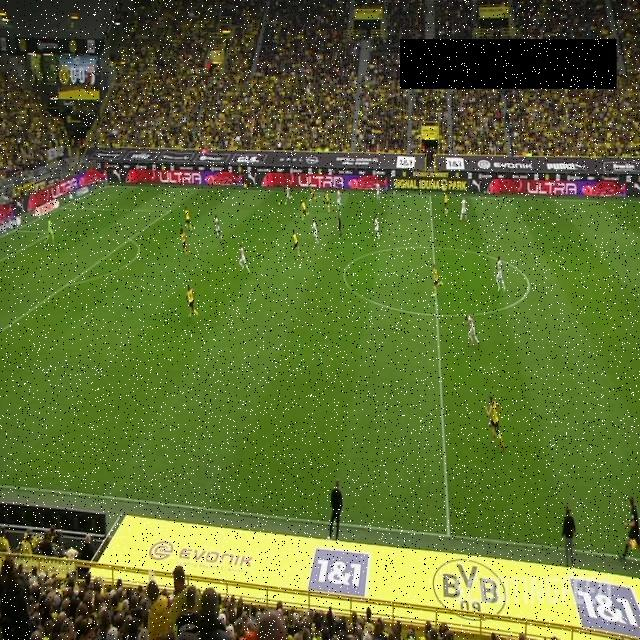Ball: (277, 200, 281, 208)
Corner: (105, 163, 108, 186)
GoalKeeper: (43, 217, 55, 246)
Referee: (618, 495, 640, 561), (335, 214, 343, 241), (240, 167, 248, 191)
TEAM 1: (486, 394, 506, 452), (185, 286, 199, 318), (432, 262, 444, 298), (291, 228, 301, 258), (179, 227, 189, 256), (184, 204, 194, 233), (308, 184, 319, 206), (300, 200, 310, 222), (442, 190, 450, 217), (324, 192, 332, 212)
TEAM 2: (464, 314, 480, 346), (238, 243, 250, 275), (496, 255, 506, 293), (214, 214, 224, 240), (312, 219, 321, 245), (458, 198, 468, 221), (284, 186, 293, 207), (374, 215, 381, 239), (336, 188, 342, 210), (376, 182, 381, 202)
